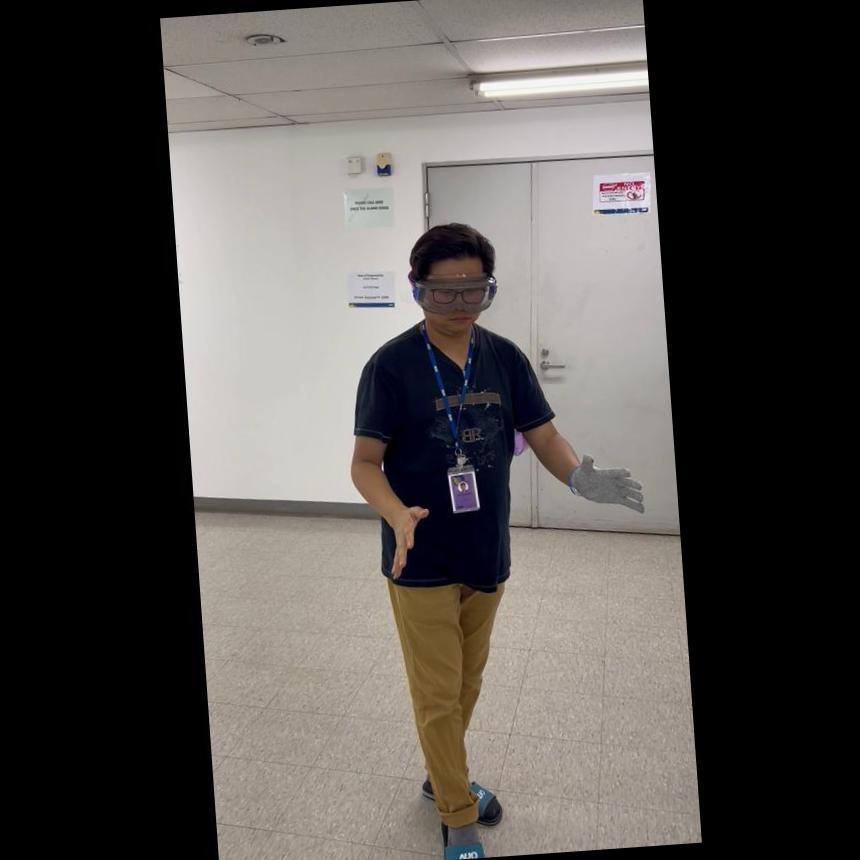Gloves: (562, 442, 646, 516)
No-gloves: (378, 492, 434, 578)
